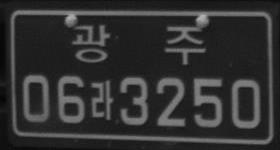0: (230, 78, 262, 129), (21, 73, 50, 122)
2: (156, 77, 186, 127)
3: (118, 75, 148, 124)
5: (192, 76, 223, 128)
6: (56, 74, 86, 123)
광주_D: (72, 23, 206, 65)
라: (90, 80, 114, 120)
